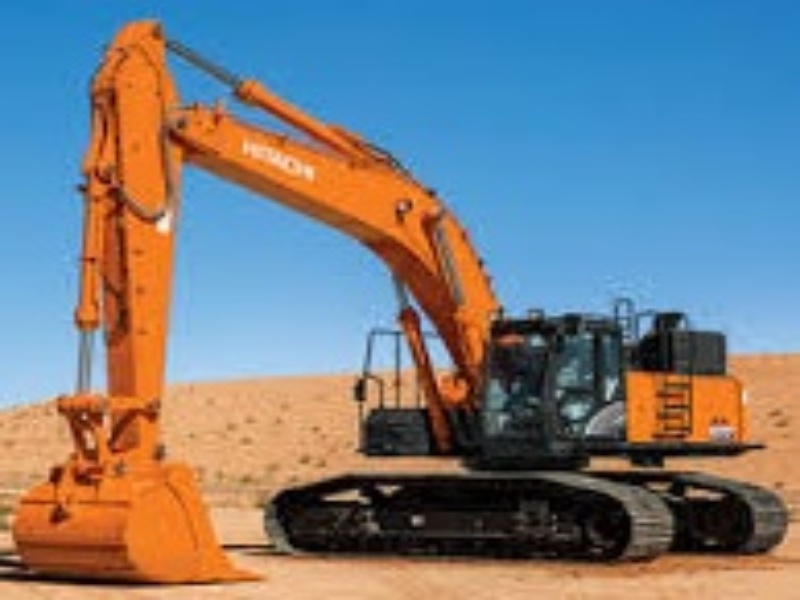wajueji: (258, 245, 795, 598)
